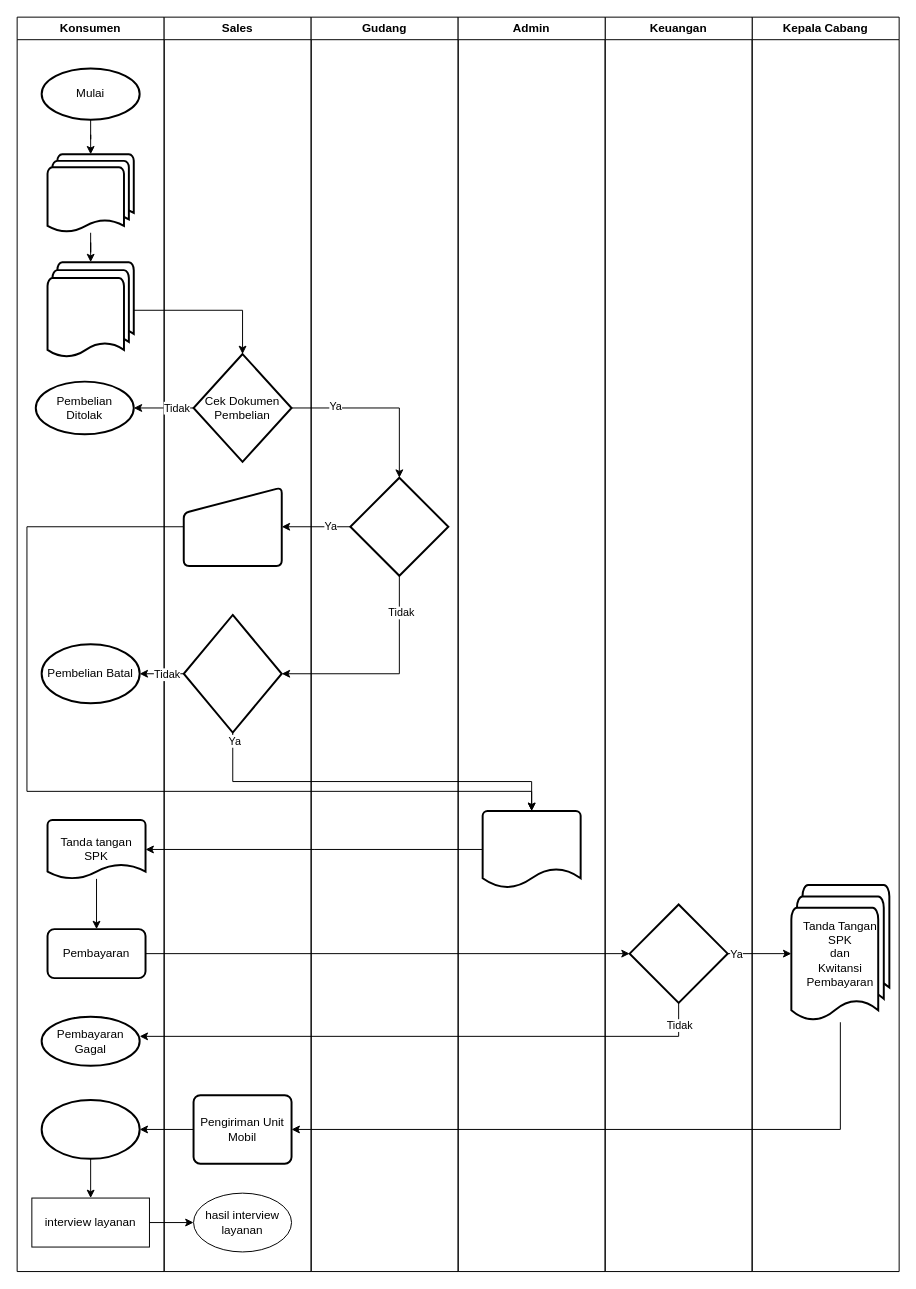
Some shapes in this 916 by 1289 pixel diagram are drawn without their labels. Here are the shapes that lost their labels. From the top down, the centre of each, then its label:
the point at 90,193: Pilih Mobil
the point at 90,310: Dokumen pendukung pembelian
the point at 232,526: Konfirmasi Pembelian
the point at 399,526: Cek Unit Mobil
the point at 232,673: Informasi Perubahan Unit ke Pelanggan
the point at 531,848: Surat Pembelian Kendaraan
the point at 678,953: Konfirmasi Pembayaran
the point at 90,1129: Menerima Unit Mobil
